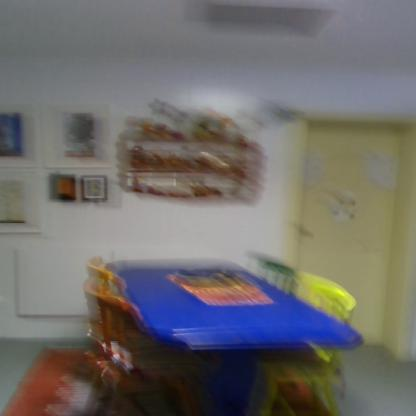door: (296, 121, 390, 347)
lever: (300, 229, 318, 240)
